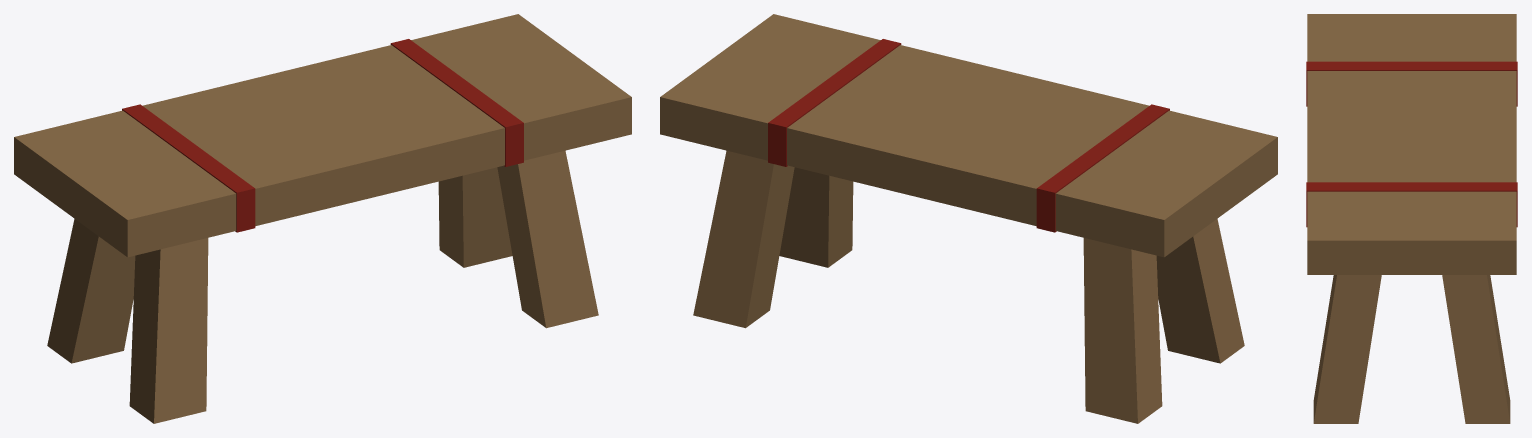
Rendered from Chair_2.fbx.
The picture shows the model from 3 angles, left to right: view 1: azimuth 30°, elevation 25°; view 2: azimuth 150°, elevation 25°; view 3: azimuth 270°, elevation 25°; orthographic projection. The views are drawn at different scales.
Parts seen in each view (by area): view 1: Chair_2; view 2: Chair_2; view 3: Chair_2.
Boxes of the visible parts, x1=… form: Chair_2: x1=14, y1=14, x2=631, y2=423; Chair_2: x1=660, y1=14, x2=1277, y2=423; Chair_2: x1=1306, y1=14, x2=1517, y2=423.
Size of the model in its own units: 106 by 43.12 by 41.78.
